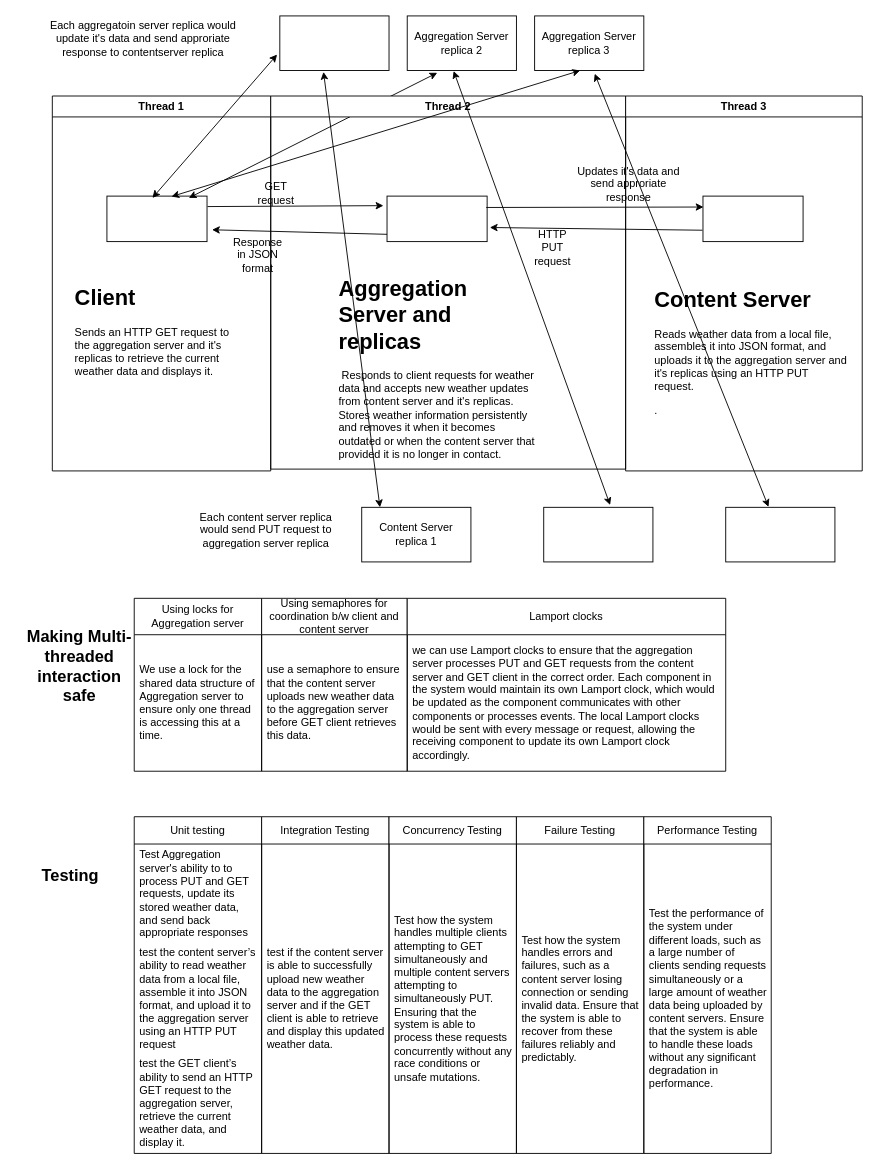
This 878x1169 diagram has some shape labels left out. Here are the shapes that lost their labels. From the top down, the centre of each, then its label:
At point 334,43: "Aggregation Server replica 1".
At point 156,218: "Client".
At point 436,218: "Aggregation Server".
At point 752,218: "Content Server".
At point 598,534: "Content Server replica 2".
At point 780,534: "Content Server replica 3".
